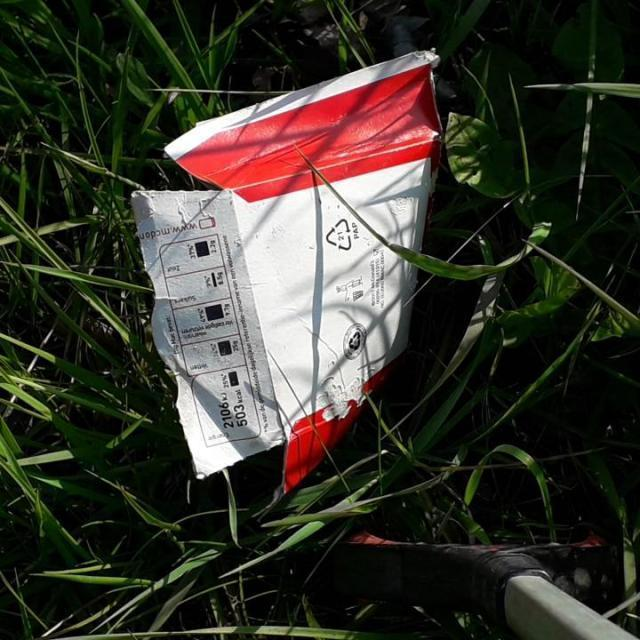Plastic: (126, 42, 446, 502)
